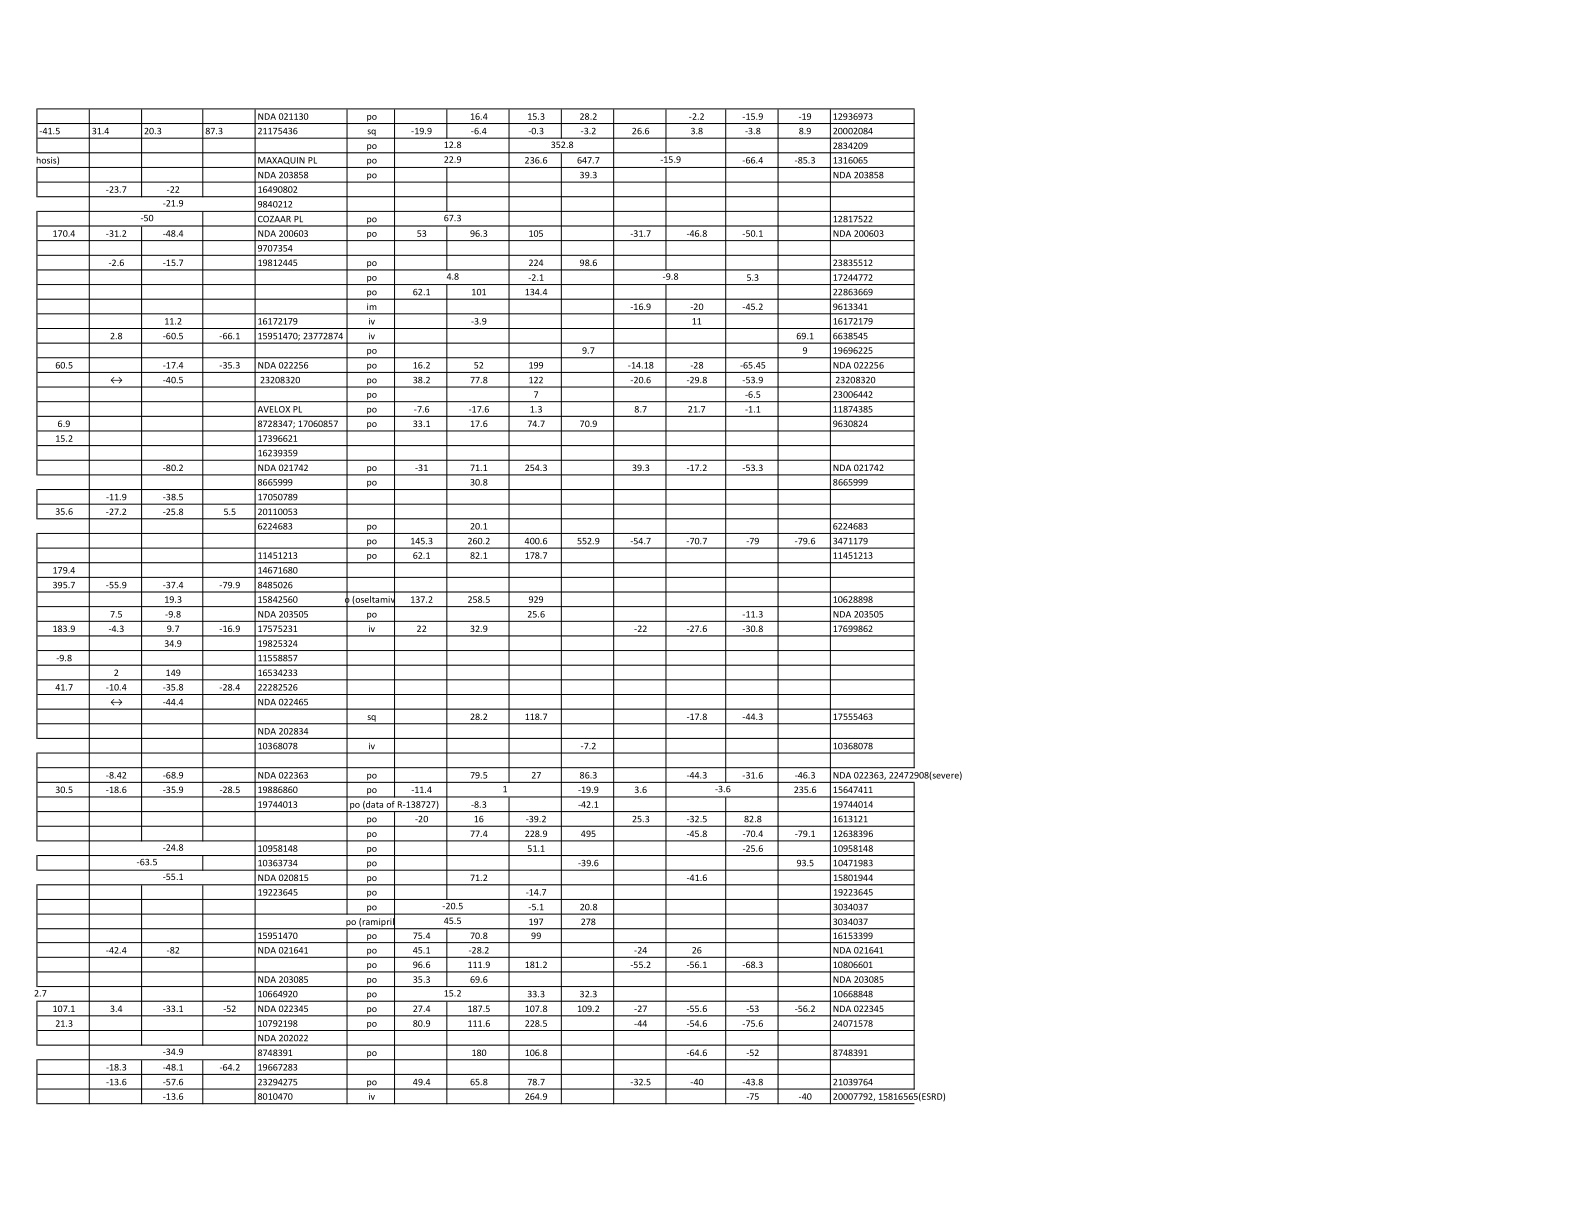full_lined: (36, 105, 915, 1106)
